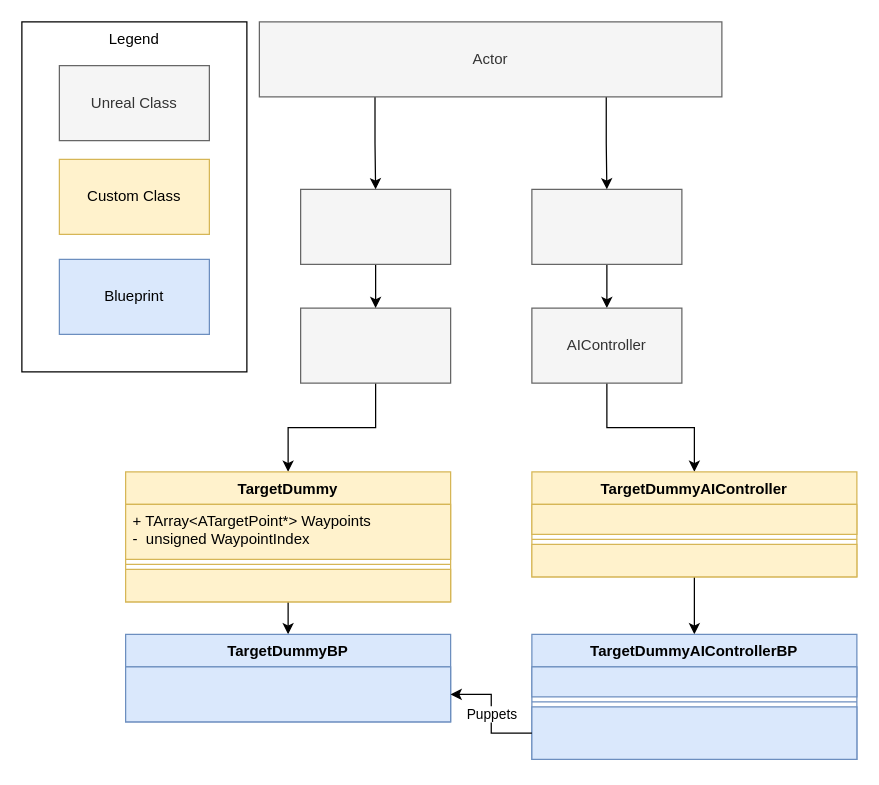
This 879x785 diagram has some shape labels left out. The centre of each missing label's shape, as x and y in pixels:
+ ATargetPoint* GetNextWaypoint(): (287,585)
+ BeginPlay + Event: Move: (694,732)
+ Mannequin + Animation: (287,694)
Character: (375,345)
Controller: (606,226)
Pawn: (375,226)
